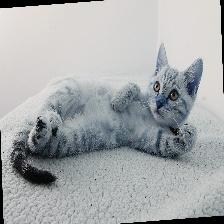kedo: (12, 43, 203, 184)
